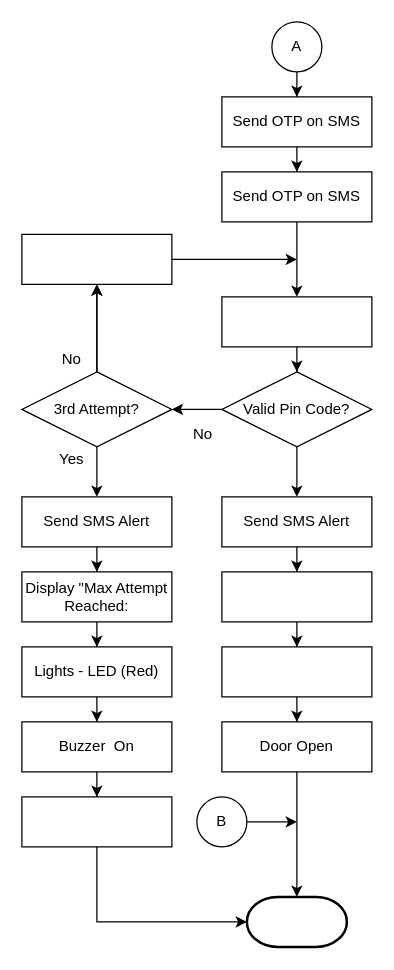
Image size: 394x970. Some labels were removed from this diagram. The centre of each missing label's shape, as x and y in pixels:
Delay 60 Seconds: [96,821]
Display "Invalid": [96,258]
Display "Valid": [296,596]
End: [296,921]
Input Password: [296,321]
Lights - LED (Green): [296,671]
